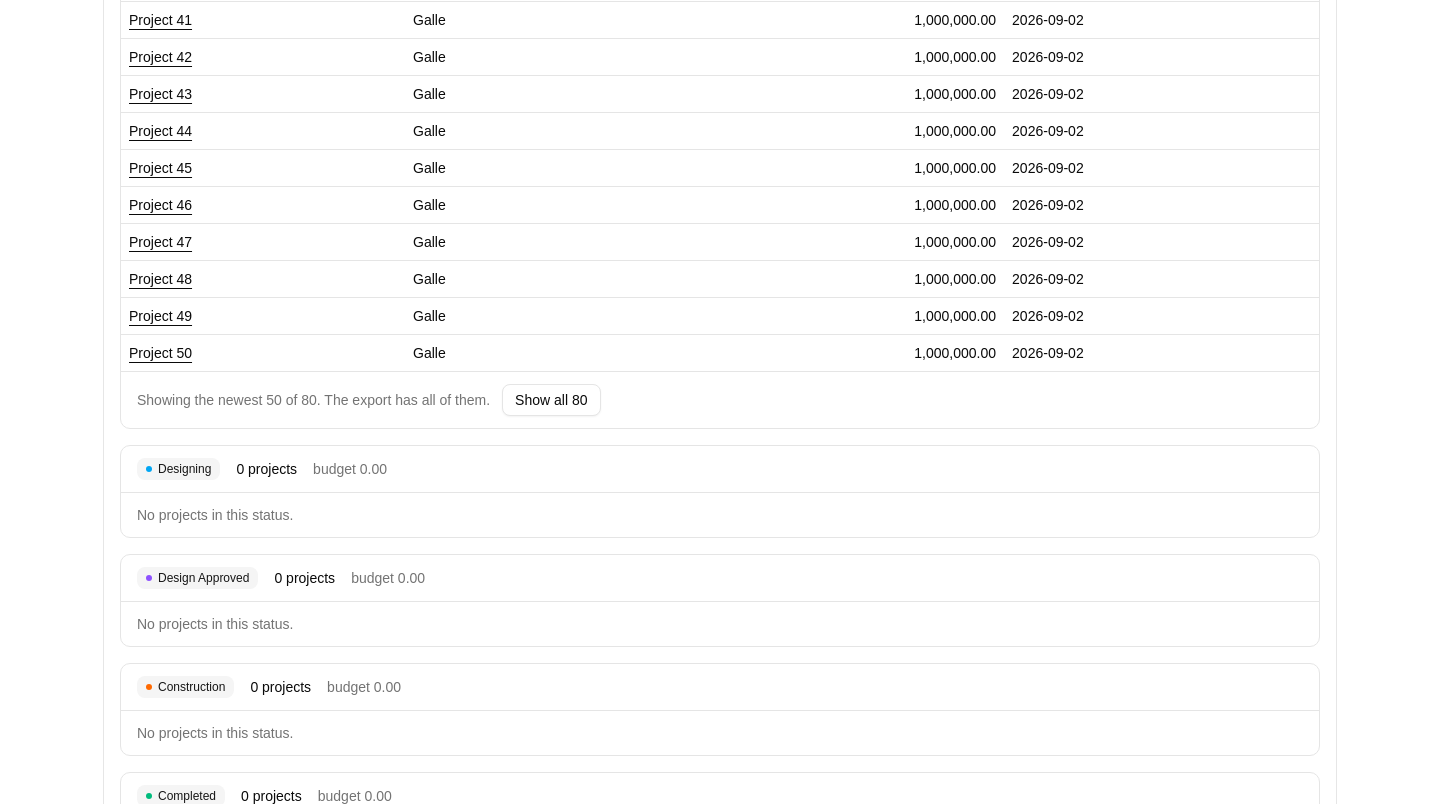
Test case: ProjectStatusReportPage — a very large group › shows every project once Show all is pressed
(page scrolled)
Click the button "Show all 80".
click(551, 400)  # box [502,384,600,416]
(page scrolled)
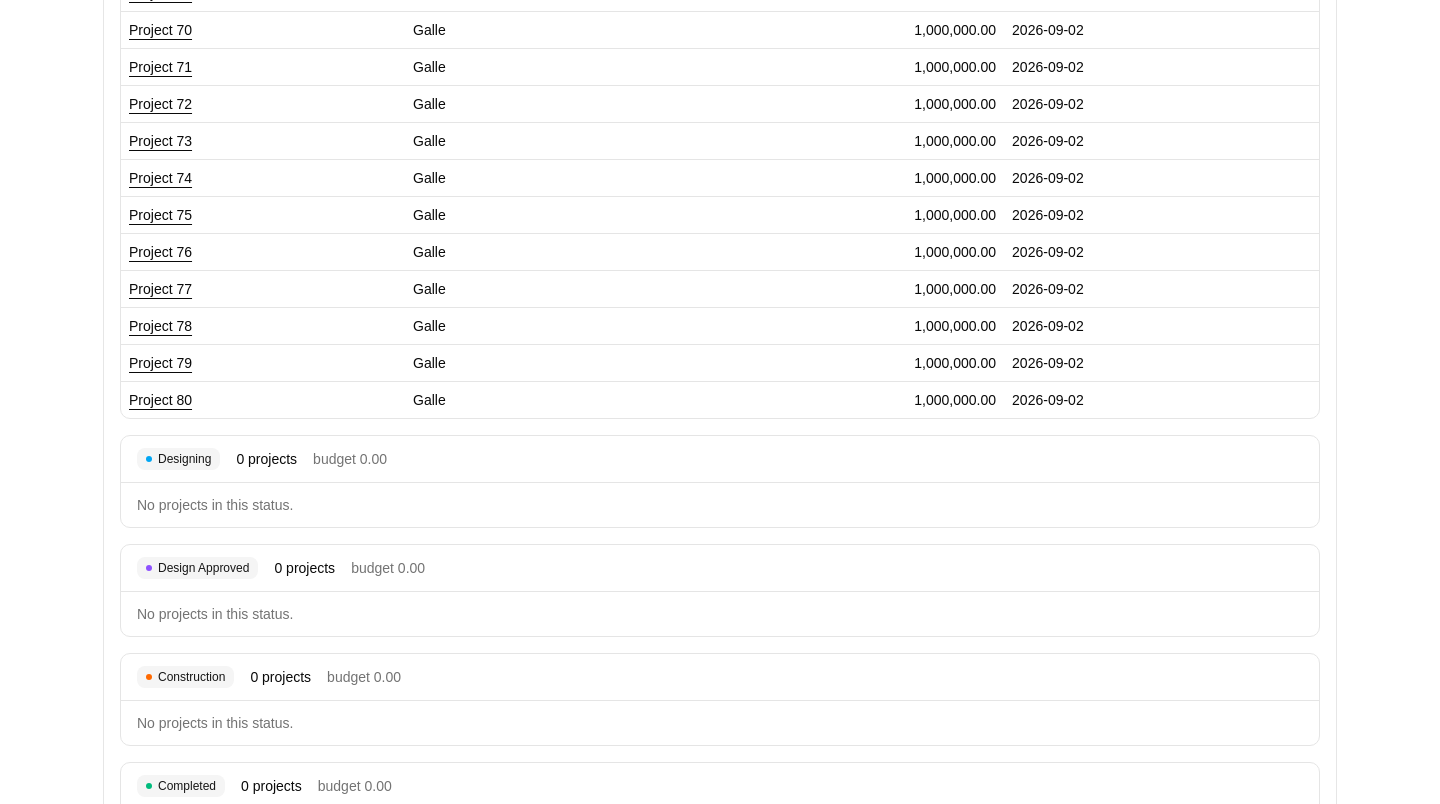
Expected: the button "Show all" is gone
